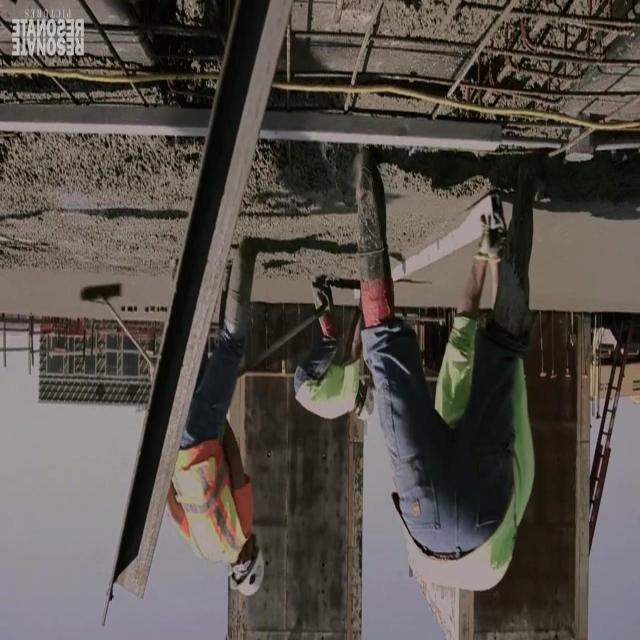helmet: (220, 550, 274, 600), (356, 384, 378, 426)
jacket: (175, 452, 245, 568)
